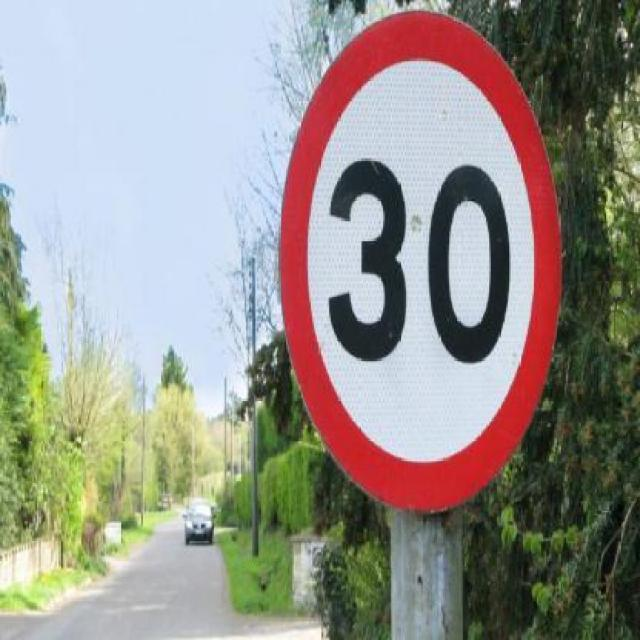Ograniczenie predkosci do 30: (286, 13, 556, 490)
